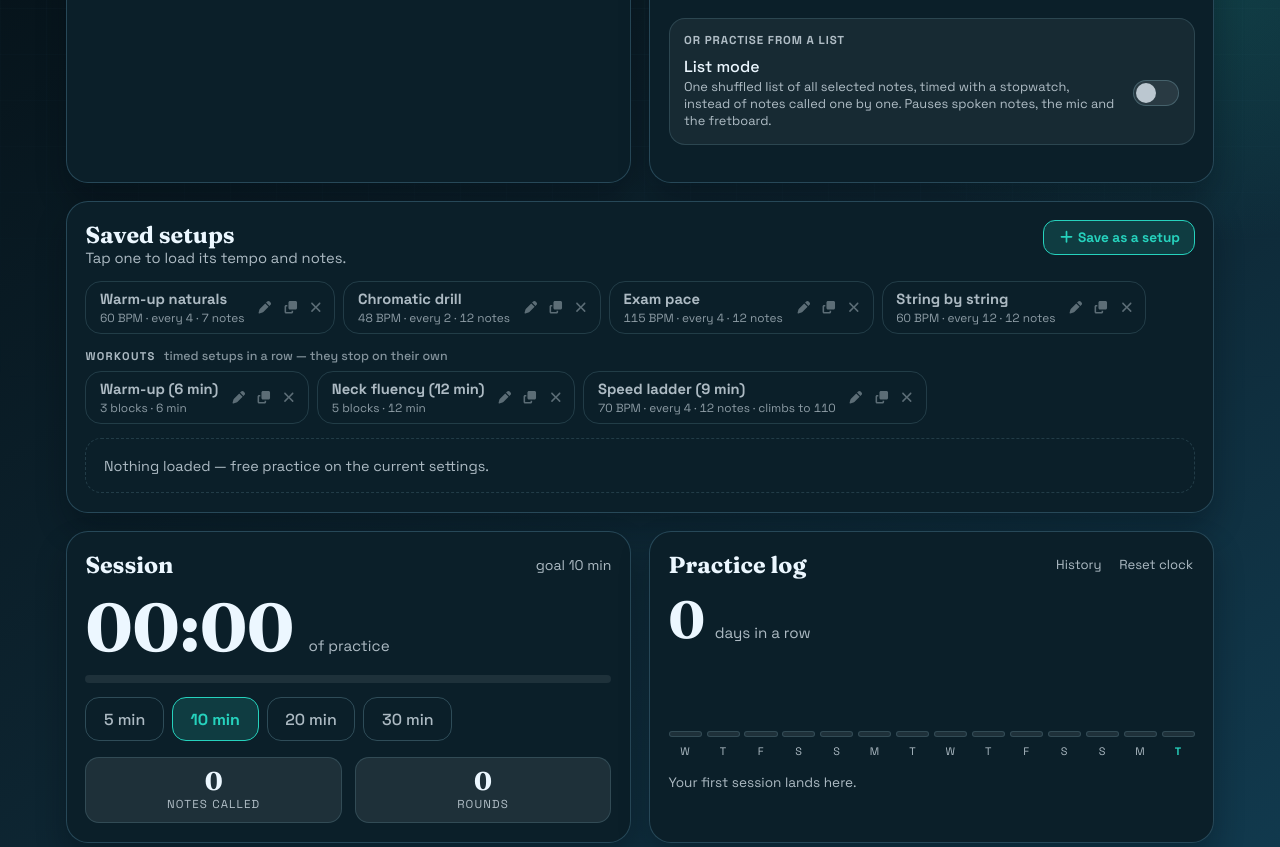
Test: Routines › reads a workout as a timeline of blocks proportional to their length
(page scrolled)
Step 1. Click the button "Neck fluency (12 min) 5 blocks · 12 min" → (405, 397), box [318,372,491,423]
(page scrolled)
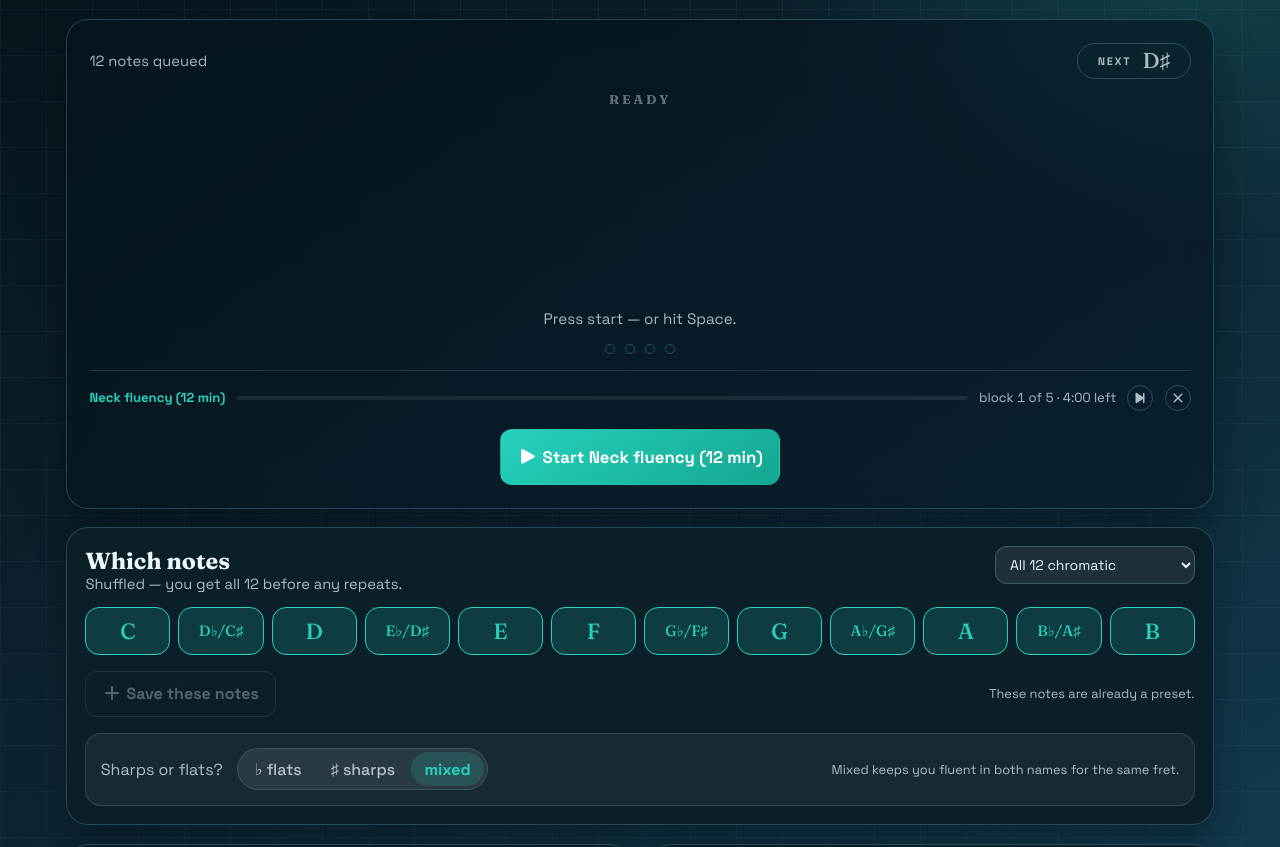
Result: the text with test id "routine-strip-status" reads "block 1 of 5 · 4:00 left" at [979,389,1116,406]
